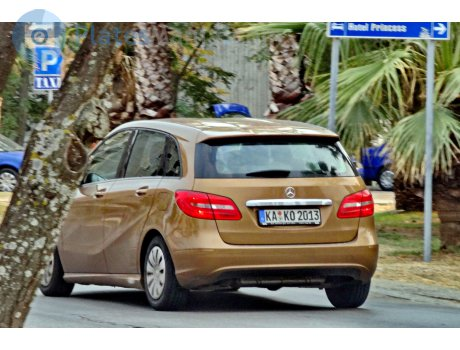License Plates: (262, 210, 323, 220)
